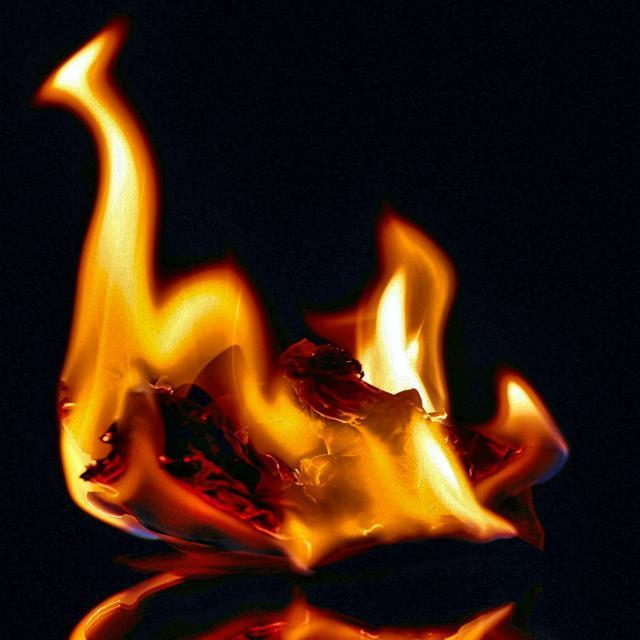Fire: (41, 8, 570, 570)
